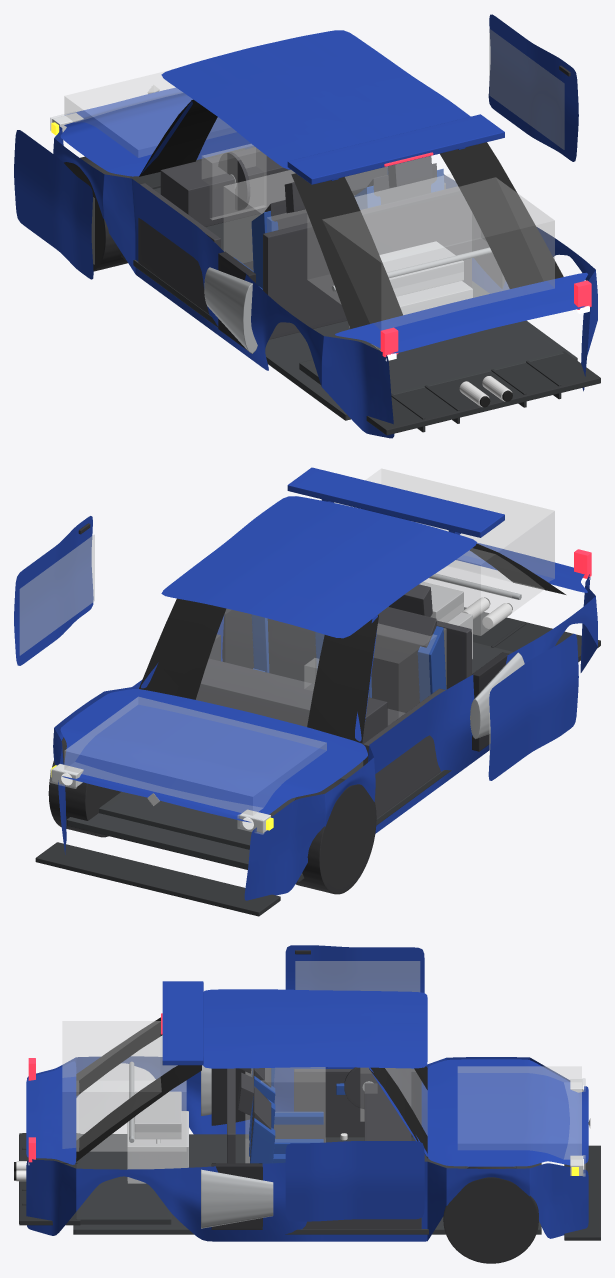
The model's file is vehicle.opt.glb.
The picture shows the model from 3 angles, top to bottom: view 1: azimuth 30°, elevation 25°; view 2: azimuth 150°, elevation 25°; view 3: azimuth 270°, elevation 25°; orthographic projection. The views are drawn at different scales.
Parts seen in each view (by area): view 1: object 1, object 11, object 8, object 16, DOOR_FL_ClioV6, DOOR_FR_ClioV6, DOOR_FL_ClioV6_WindowGlass, object 18, DOOR_FR_ClioV6_InnerCard, WHEEL_RL_OZSuperturismo, INTERIOR_ClioV6_SteeringWheel; view 2: object 1, object 11, object 8, object 16, DOOR_FR_ClioV6, DOOR_FL_ClioV6, WHEEL_RL_OZSuperturismo, DOOR_FL_ClioV6_WindowGlass, DOOR_FR_ClioV6_InnerCard, object 18, WHEEL_RR_OZSuperturismo; view 3: object 1, object 11, DOOR_FL_ClioV6, object 8, object 16, WHEEL_RR_OZSuperturismo, DOOR_FR_ClioV6, object 18, DOOR_FR_ClioV6_InnerCard, DOOR_FR_ClioV6_WindowGlass, DOOR_FL_ClioV6_InnerCard, INTERIOR_ClioV6_SteeringWheel.
Part boxes in pixels (bbox=[...]): object 1: bbox=[53, 30, 600, 438]; object 11: bbox=[64, 70, 554, 330]; object 8: bbox=[50, 99, 563, 328]; object 16: bbox=[147, 85, 512, 407]; DOOR_FL_ClioV6: bbox=[488, 14, 578, 161]; DOOR_FR_ClioV6: bbox=[14, 130, 93, 279]; DOOR_FL_ClioV6_WindowGlass: bbox=[489, 29, 564, 149]; object 18: bbox=[51, 113, 589, 407]; DOOR_FR_ClioV6_InnerCard: bbox=[138, 183, 220, 314]; WHEEL_RL_OZSuperturismo: bbox=[64, 156, 129, 271]; INTERIOR_ClioV6_SteeringWheel: bbox=[218, 152, 250, 210]; object 1: bbox=[35, 467, 600, 916]; object 11: bbox=[64, 468, 554, 815]; object 8: bbox=[50, 543, 565, 834]; object 16: bbox=[147, 584, 512, 805]; DOOR_FR_ClioV6: bbox=[488, 634, 578, 780]; DOOR_FL_ClioV6: bbox=[14, 516, 93, 665]; WHEEL_RL_OZSuperturismo: bbox=[294, 778, 376, 894]; DOOR_FL_ClioV6_WindowGlass: bbox=[19, 534, 94, 655]; DOOR_FR_ClioV6_InnerCard: bbox=[363, 688, 445, 818]; object 18: bbox=[51, 578, 589, 833]; WHEEL_RR_OZSuperturismo: bbox=[48, 737, 120, 837]; object 1: bbox=[19, 981, 600, 1241]; object 11: bbox=[62, 1021, 581, 1162]; DOOR_FL_ClioV6: bbox=[285, 1141, 424, 1221]; object 8: bbox=[76, 1017, 585, 1176]; object 16: bbox=[16, 1068, 590, 1181]; WHEEL_RR_OZSuperturismo: bbox=[443, 1166, 538, 1263]; DOOR_FR_ClioV6: bbox=[285, 945, 424, 992]; object 18: bbox=[14, 1079, 583, 1183]; DOOR_FR_ClioV6_InnerCard: bbox=[294, 1069, 421, 1137]; DOOR_FR_ClioV6_WindowGlass: bbox=[295, 961, 420, 992]; DOOR_FL_ClioV6_InnerCard: bbox=[303, 1218, 421, 1229]; INTERIOR_ClioV6_SteeringWheel: bbox=[344, 1067, 391, 1109].
Size of what is drawn, in the model's own units: 3.23 by 1.41 by 4.01.
